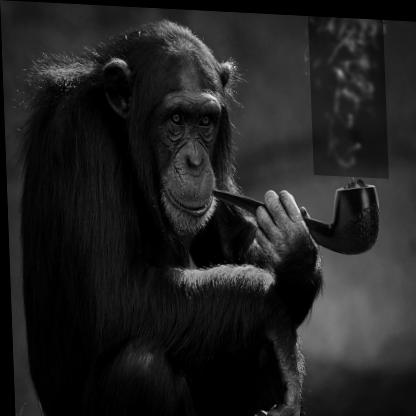smoke: (308, 13, 388, 175)
